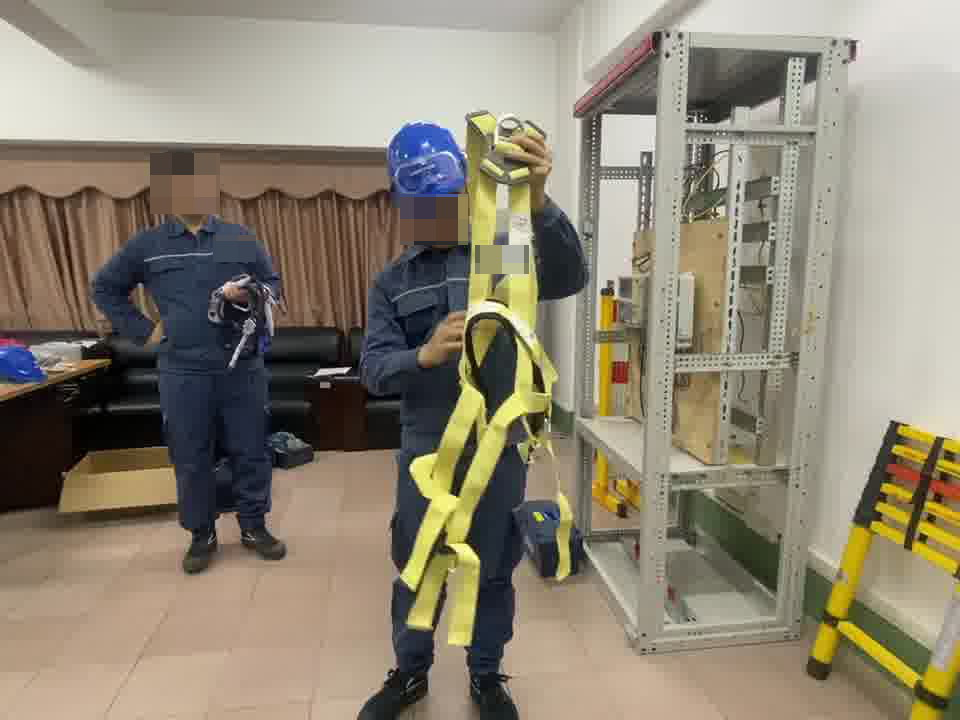downsuit: (385, 438, 524, 672), (159, 379, 276, 529)
halt: (385, 121, 472, 240)
hand: (414, 309, 469, 368), (514, 131, 555, 209), (207, 279, 248, 302)
noear: (153, 183, 172, 207)
person: (356, 115, 595, 720), (91, 147, 290, 567)
safebelt: (397, 111, 573, 650)
unhalt: (152, 147, 215, 222)
upsuit: (357, 211, 589, 451), (95, 217, 284, 372)
